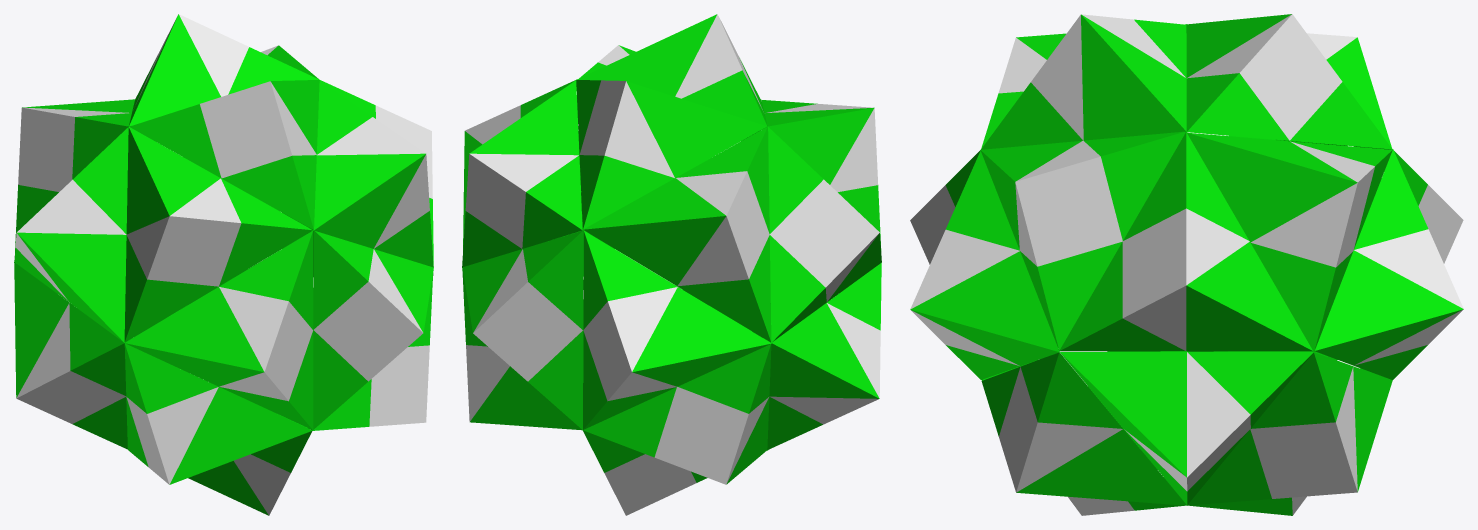
Rendered from sonobemoduleicosahedronmodif2.glb.
3 renders of one model, left to right at view 1: azimuth 30°, elevation 25°; view 2: azimuth 150°, elevation 25°; view 3: azimuth 270°, elevation 25°, orthographic. The views are drawn at different scales.
Parts seen in each view (by area): view 1: Solid3, Solid1, Solid6, Solid2, Solid4, Solid5; view 2: Solid3, Solid1, Solid6, Solid2, Solid4, Solid5; view 3: Solid1, Solid2, Solid4, Solid5, Solid3, Solid6.
Boxes of the visible parts, x1,y1,x2,y2 form: Solid3: (17,14,431,484); Solid1: (15,14,432,515); Solid6: (14,47,433,449); Solid2: (15,14,428,515); Solid4: (14,60,433,472); Solid5: (14,63,433,482); Solid3: (465,14,879,515); Solid1: (465,20,880,515); Solid6: (462,70,823,482); Solid2: (463,14,880,483); Solid4: (462,60,881,472); Solid5: (462,47,881,466); Solid1: (910,14,1463,515); Solid2: (910,14,1463,515); Solid4: (945,24,1428,505); Solid5: (980,19,1392,510); Solid3: (910,14,1463,515); Solid6: (945,19,1427,510).
Size of the model in its own units: 2.29 by 2.29 by 2.29.
